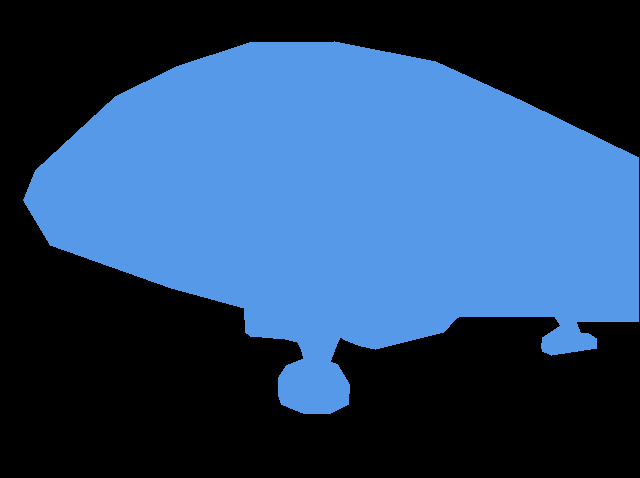Airplane: (23, 41, 638, 414)
